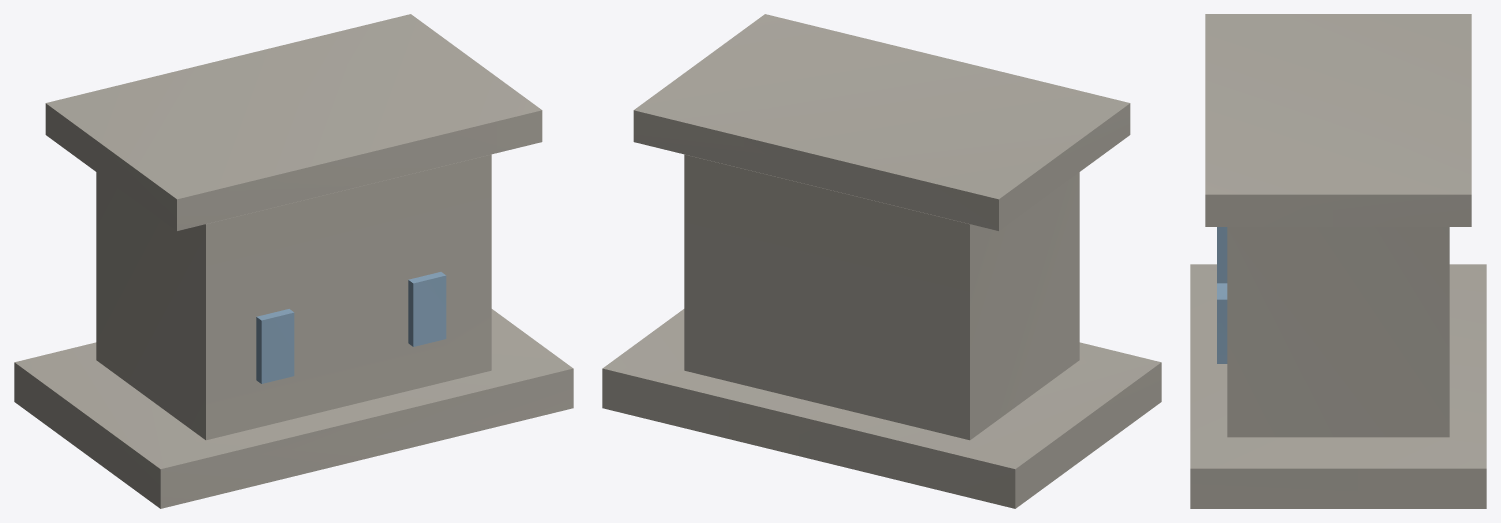
The model's file is market-08.glb.
The picture shows the model from 3 angles, left to right: view 1: azimuth 30°, elevation 25°; view 2: azimuth 150°, elevation 25°; view 3: azimuth 270°, elevation 25°; orthographic projection.
Parts seen in each view (by area): view 1: world; view 2: world; view 3: world.
Part boxes in pixels (<box>): world: <box>14,14,573,508</box>; world: <box>602,14,1161,508</box>; world: <box>1190,14,1486,508</box>.
Bounding box in the file's own units: 1.63 × 1.13 × 1.
